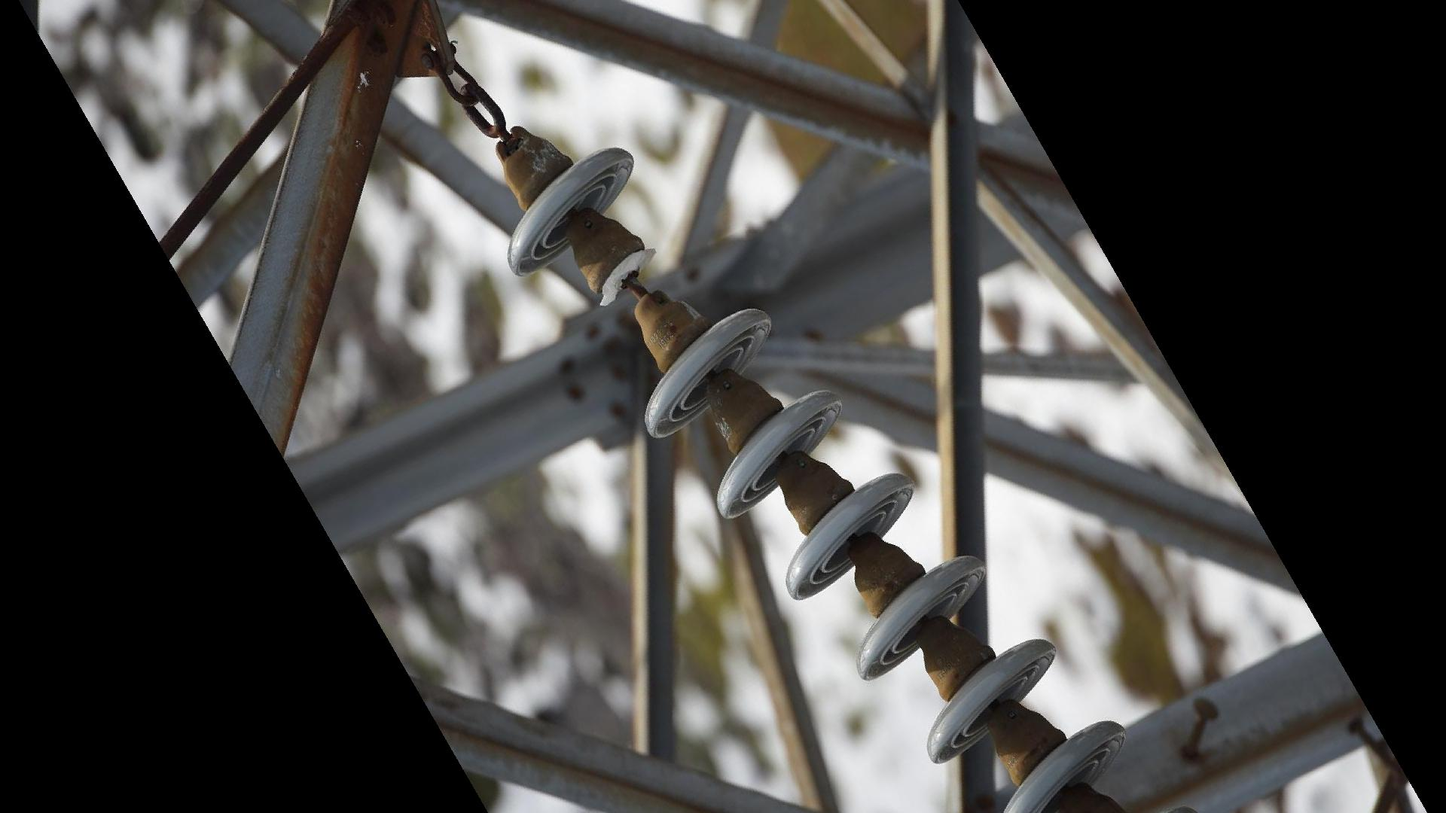insulator: (638, 301, 1131, 813), (497, 137, 643, 284)
